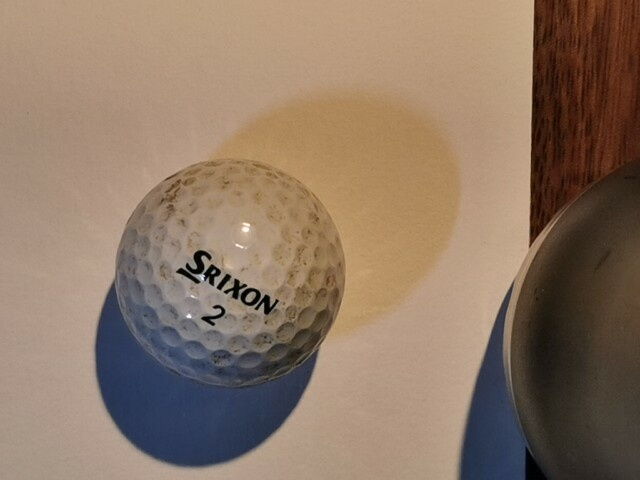Ball: (114, 157, 347, 390)
Srixon: (176, 250, 279, 315)
